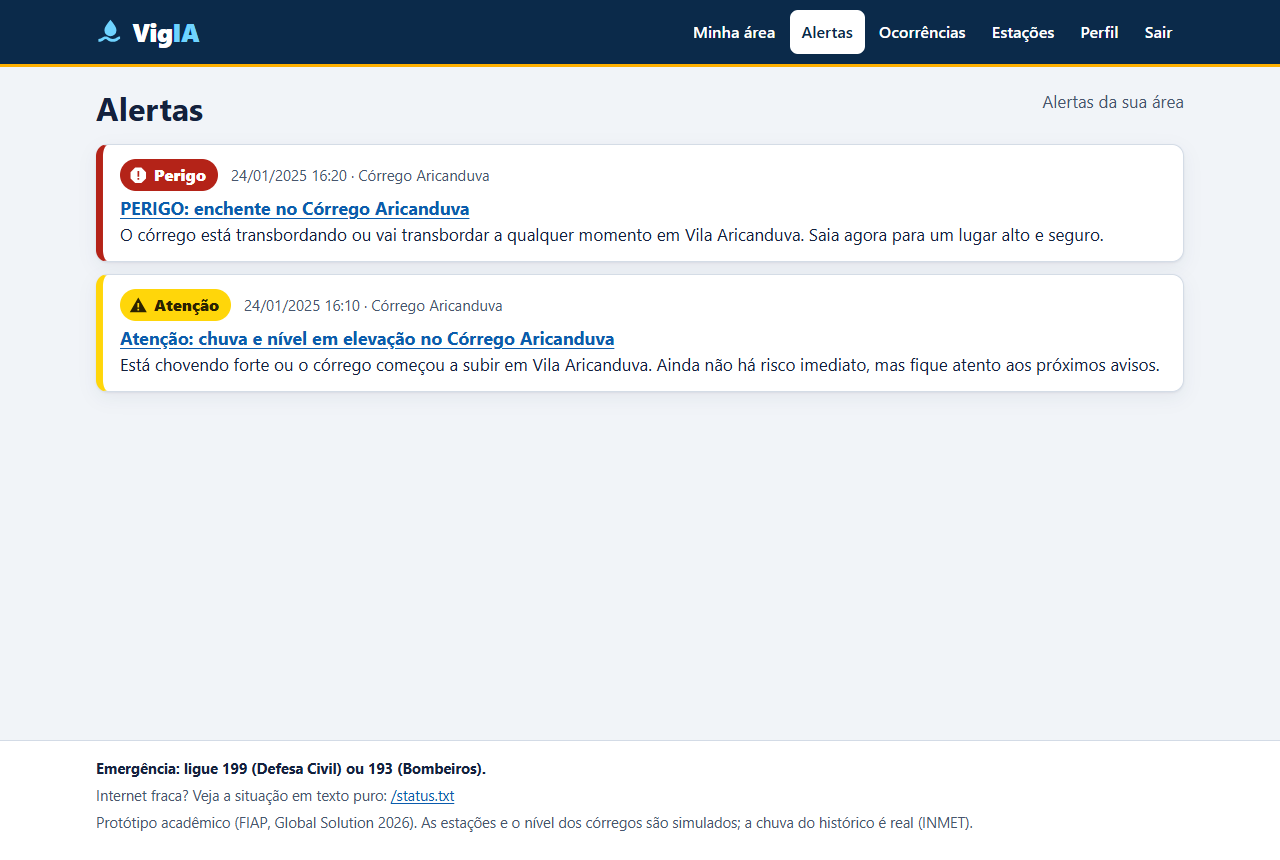

The page's visual inventory and layout, read from the dashboard file:
{"tool":"powerbi","page":{"name":"Página 1","canvas":[1920,1080],"ordinal":0},"visuals":[{"type":"htmlContent443BE3AD55E043BF878BED274D3A6855","fields":{"content":["Medidas.VigIA Painel HTML"]},"box":[0,0,1920,1079.6],"z":0},{"type":"slicer","fields":{"Values":["dim_data.data"]},"box":[42.3,134.2,300.5,52.5],"z":1},{"type":"slicer","fields":{"Values":["dim_estacao.nome"]},"box":[367.7,137.1,356,52.5],"z":2}]}

Visuals, with their boxes in screenshot pixels (x1, y1, x2, y2):
htmlContent443BE3AD55E043BF878BED274D3A6855 - Medidas.VigIA Painel HTML: box=[93, 60, 1279, 745]
slicer - dim_data.data: box=[120, 145, 311, 178]
slicer - dim_estacao.nome: box=[327, 147, 552, 180]
